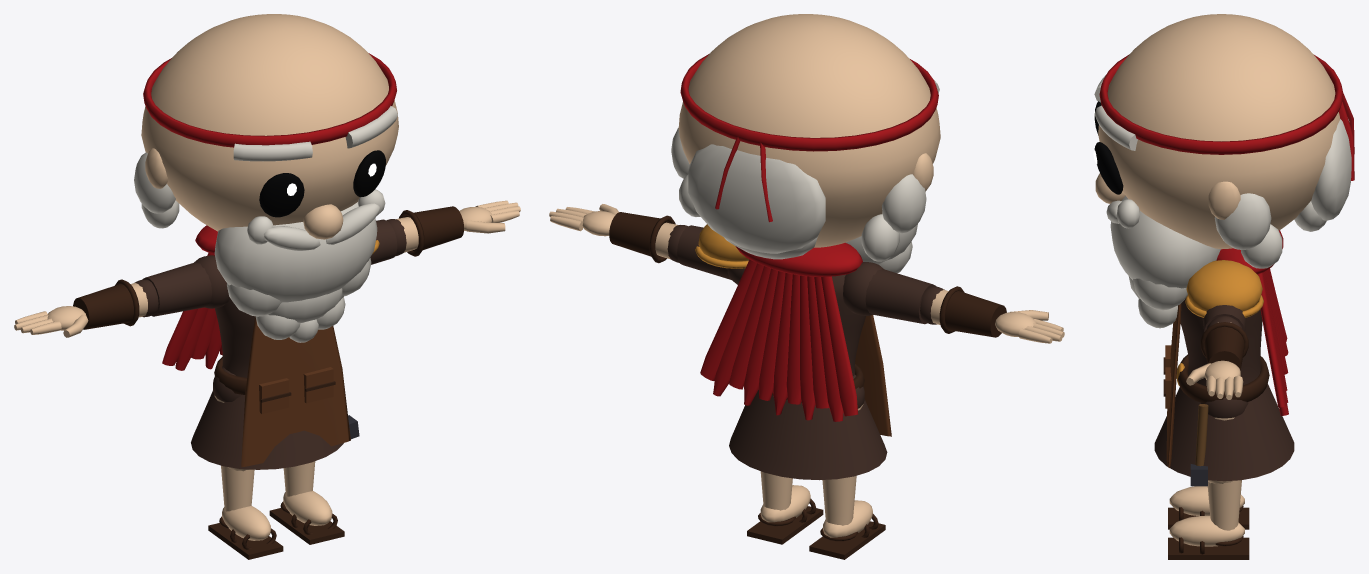
File: npc_herrero_body_sin_arma.fbx
3 renders of one model, left to right at view 1: azimuth 30°, elevation 25°; view 2: azimuth 150°, elevation 25°; view 3: azimuth 270°, elevation 25°, orthographic.
Visible parts, largest first — view 1: Head, Beard, Apron, TunicSkirt, Hair, Headband, Tunic_Body, Sleeve_R, ShortCloak, Leg_R, Eyes, Glove_R (+8 smaller); view 2: Head, ShortCloak, Hair, TunicSkirt, Headband, Sleeve_R, Tunic_Body, Apron, Mantle, Glove_R, Leg_R, Forearm_R (+8 smaller); view 3: Head, TunicSkirt, Beard, Hair, Headband, Pauldron, Leg_L, Tunic_Body, ShortCloak, Glove_L, Sandal_L, ApronStitch (+9 smaller).
Boxes of the visible parts, x1,y1,x2,y2 form: Head: (141,14,398,239); Beard: (214,189,385,342); Apron: (241,316,350,467); TunicSkirt: (191,391,343,469); Hair: (134,106,397,228); Headband: (143,53,396,147); Tunic_Body: (194,255,254,401); Sleeve_R: (134,262,212,317); ShortCloak: (162,252,222,370); Leg_R: (214,395,270,540); Eyes: (259,150,385,217); Glove_R: (73,279,139,329); Head: (678,14,940,247); ShortCloak: (700,259,858,421); Hair: (671,79,939,261); TunicSkirt: (729,389,887,480); Headband: (680,53,938,222); Sleeve_R: (865,269,944,324); Tunic_Body: (727,260,883,408); Apron: (855,315,891,436); Mantle: (735,242,862,276); Glove_R: (939,286,1006,337); Leg_R: (822,404,872,537); Forearm_R: (930,289,1064,343); Head: (1095,14,1340,249); TunicSkirt: (1154,383,1294,481); Beard: (1106,195,1220,328); Hair: (1094,75,1351,268); Headband: (1099,54,1354,180); Pauldron: (1185,260,1263,317); Leg_L: (1169,417,1244,546); Tunic_Body: (1180,298,1262,418); ShortCloak: (1257,268,1288,415); Glove_L: (1200,322,1248,369); Sandal_L: (1168,536,1249,559); ApronStitch: (1163,354,1269,403).
Size of the model in its own units: 95 by 91.4 by 42.38.
